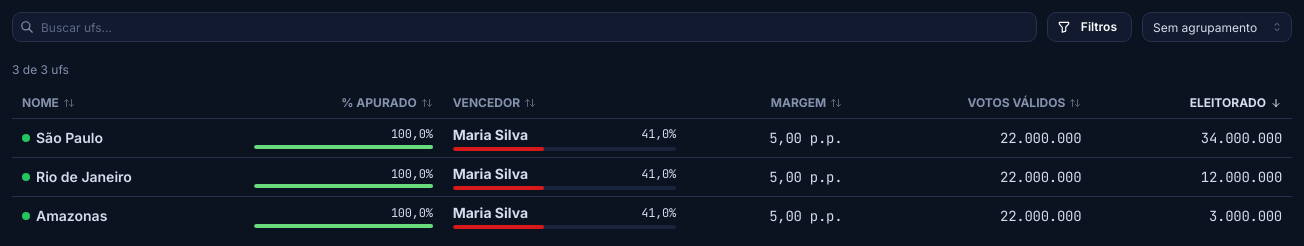
Test: geo area table › sorts by a column when its header is clicked, and filters by the name search
Check: the text "São Paulo" is shown, box [36,128,103,148]
Click the button "Eleitorado": (1236, 103) [1190,95,1282,112]
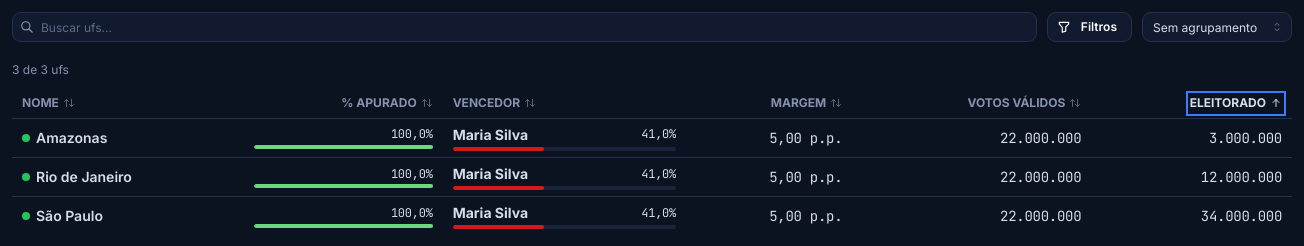
Check: the row that starts with "Amazonas" is shown, box [36,129,107,146]
In the field with placeholder "Buscar ufs…": (524, 27) [12,12,1036,42], type "rio"
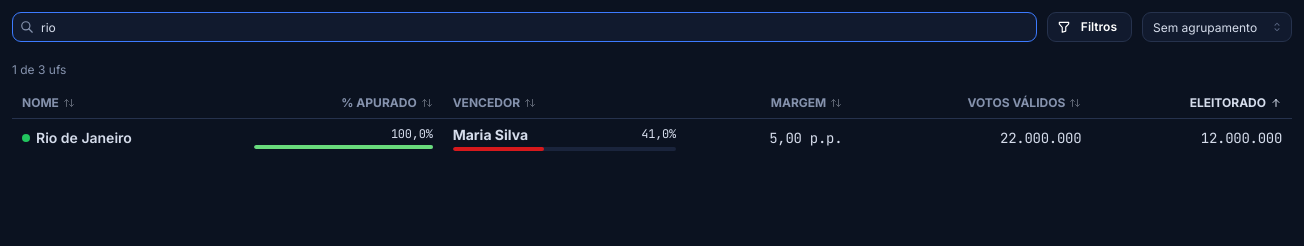
Check: the text "Rio de Janeiro" is shown, box [36,128,132,148]
Check: the text "São Paulo" is gone
